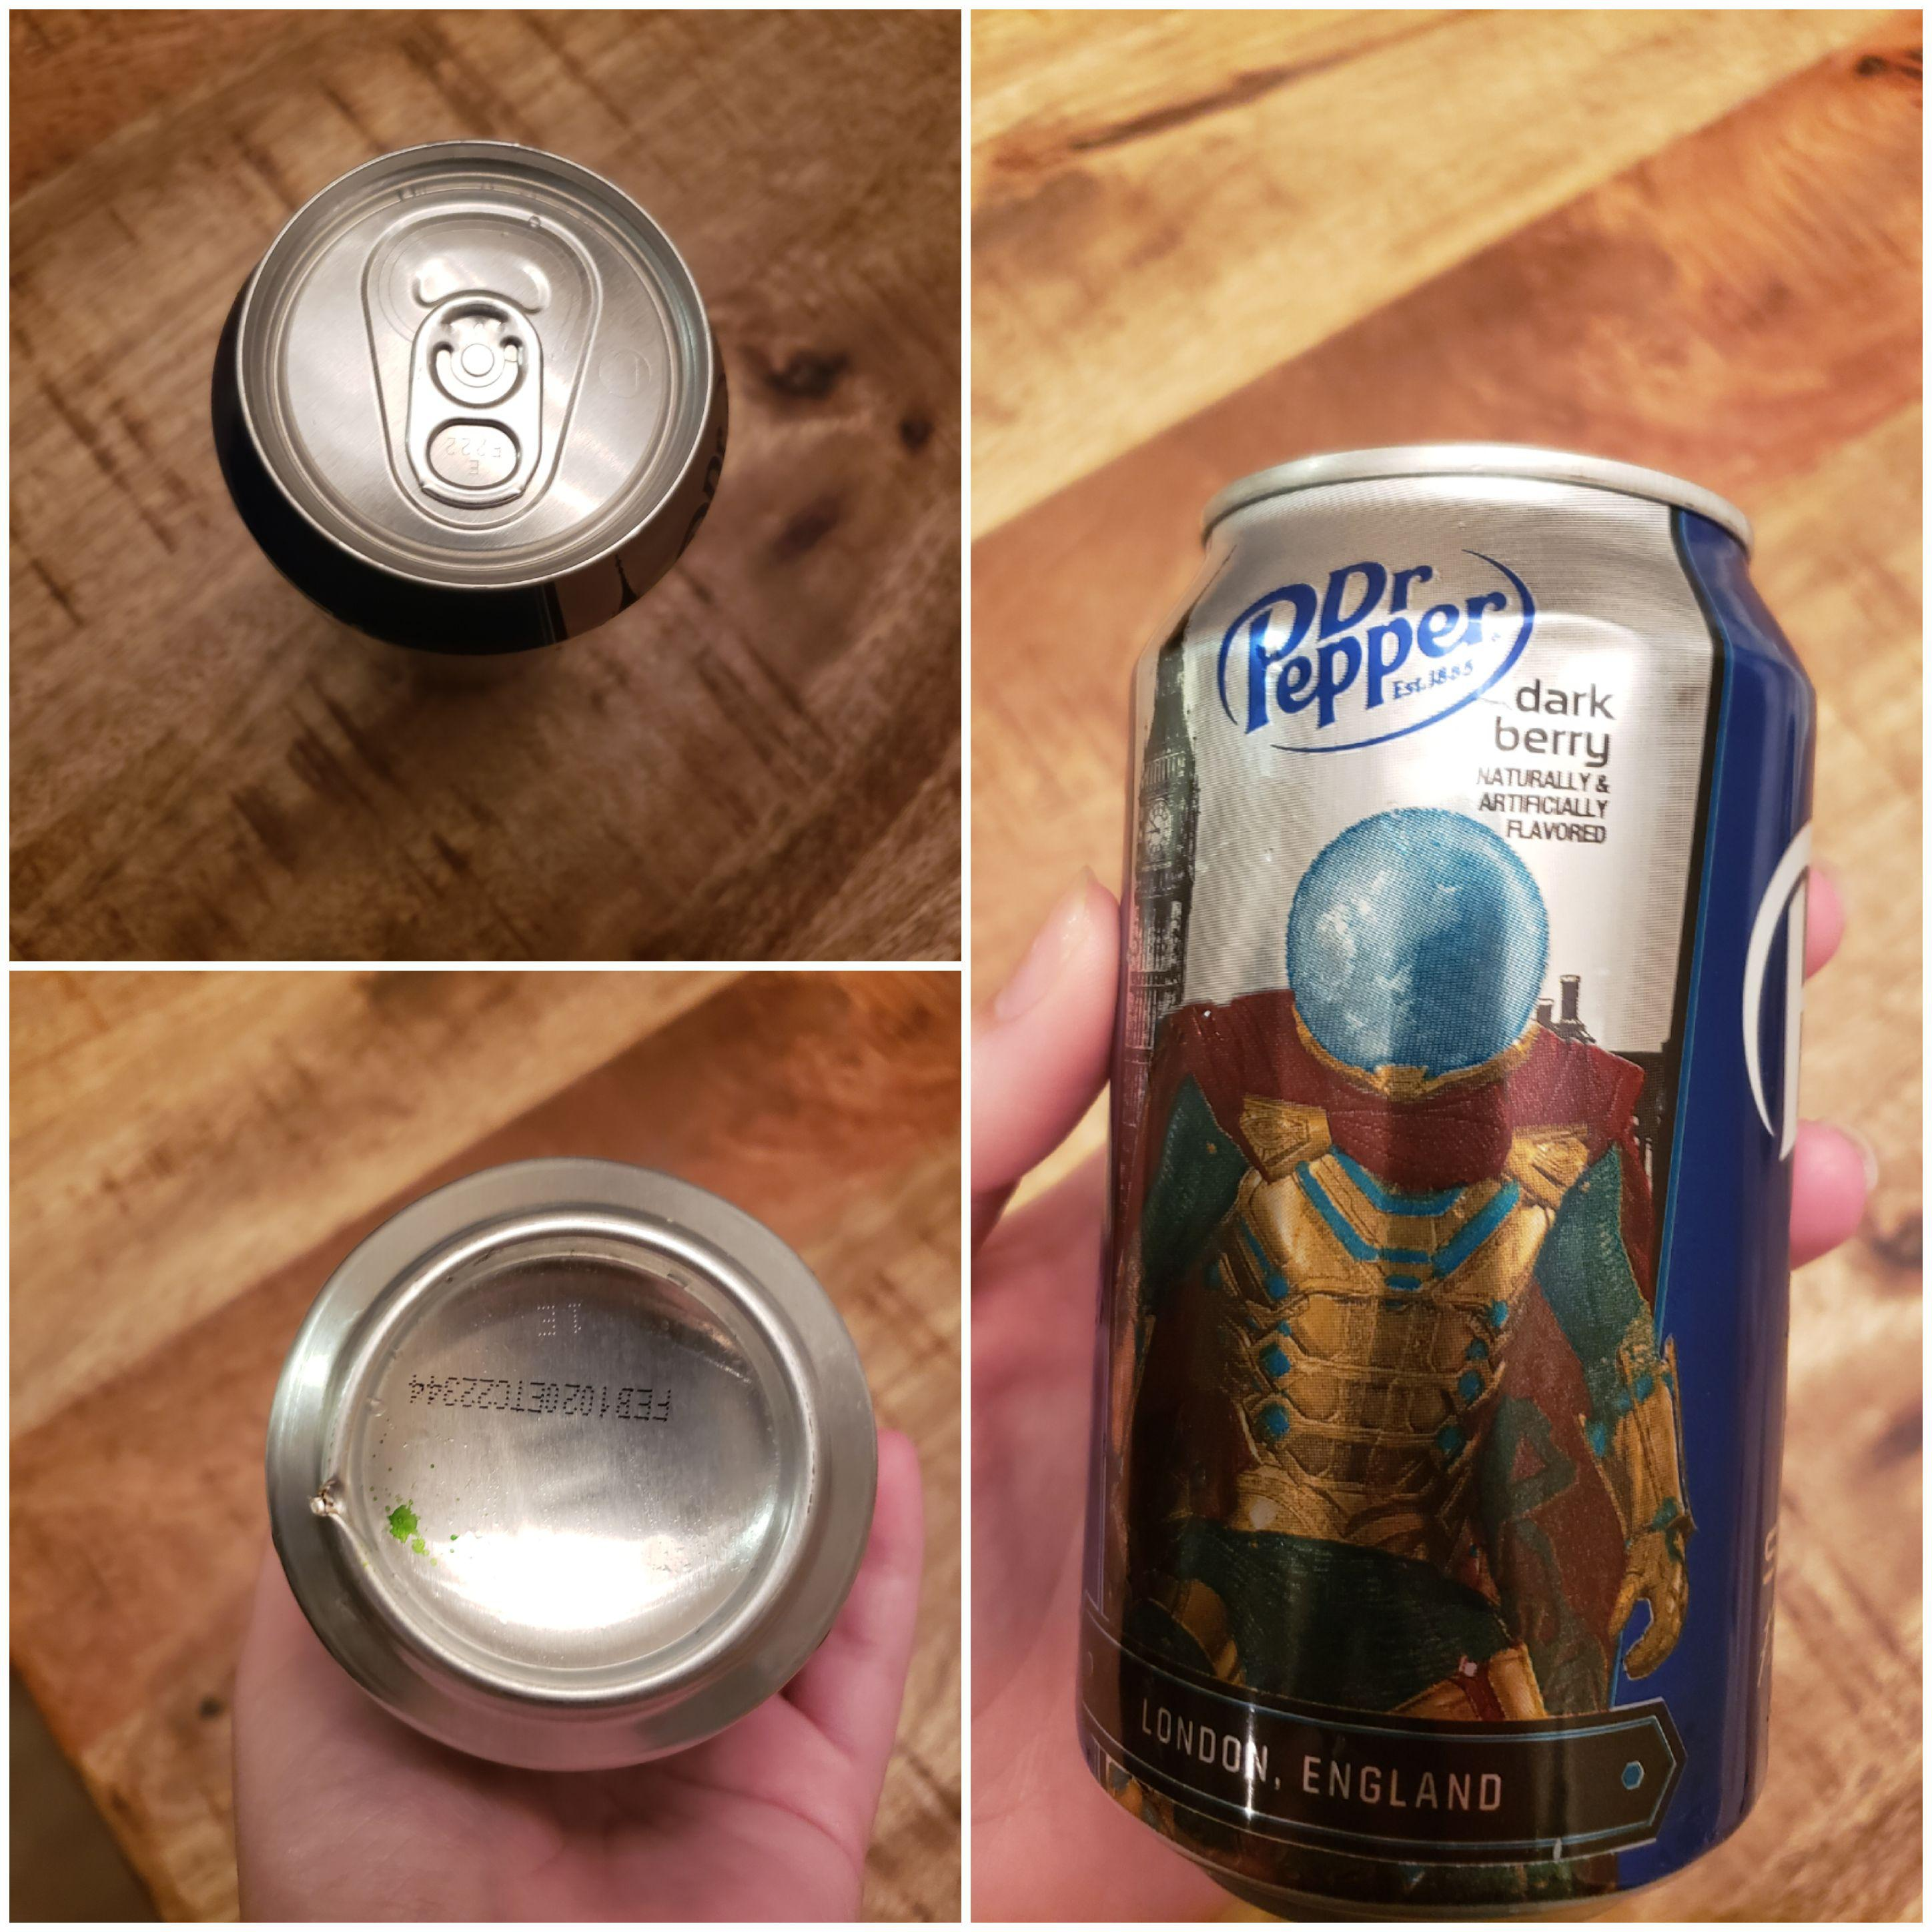can: (1077, 432, 1844, 1921), (253, 1125, 895, 1789), (195, 97, 770, 655)
